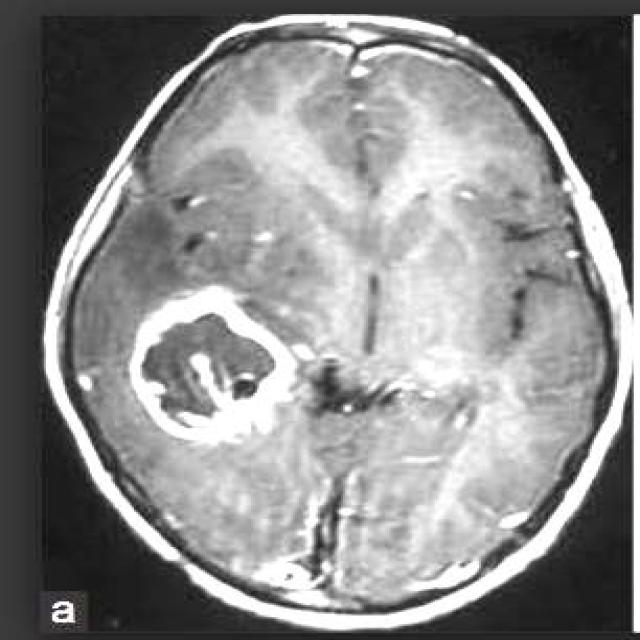Tumor-Cell: (133, 289, 306, 423)
